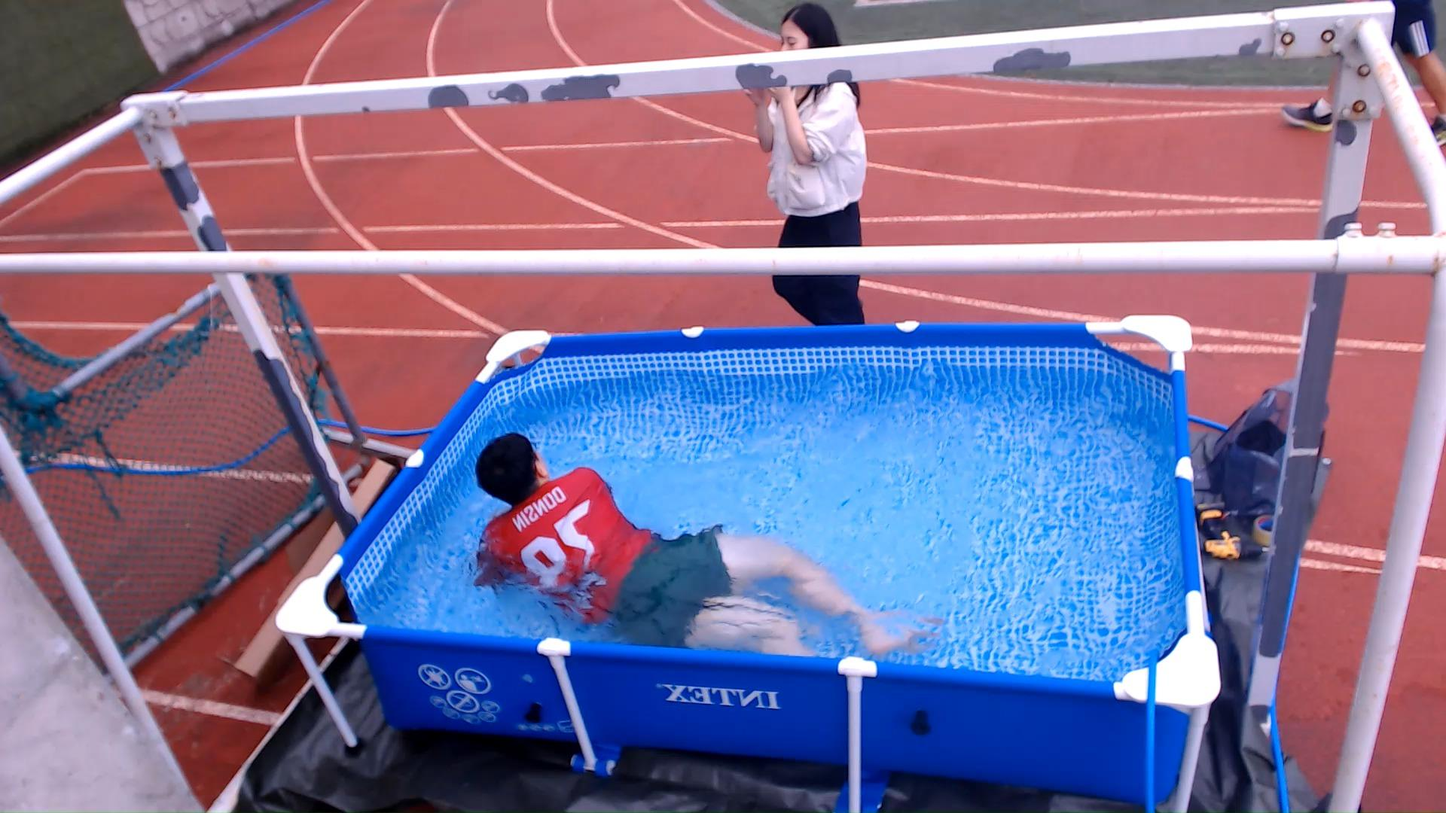Person-out-of-water: (706, 0, 882, 353)
Swimming: (458, 395, 973, 692)
